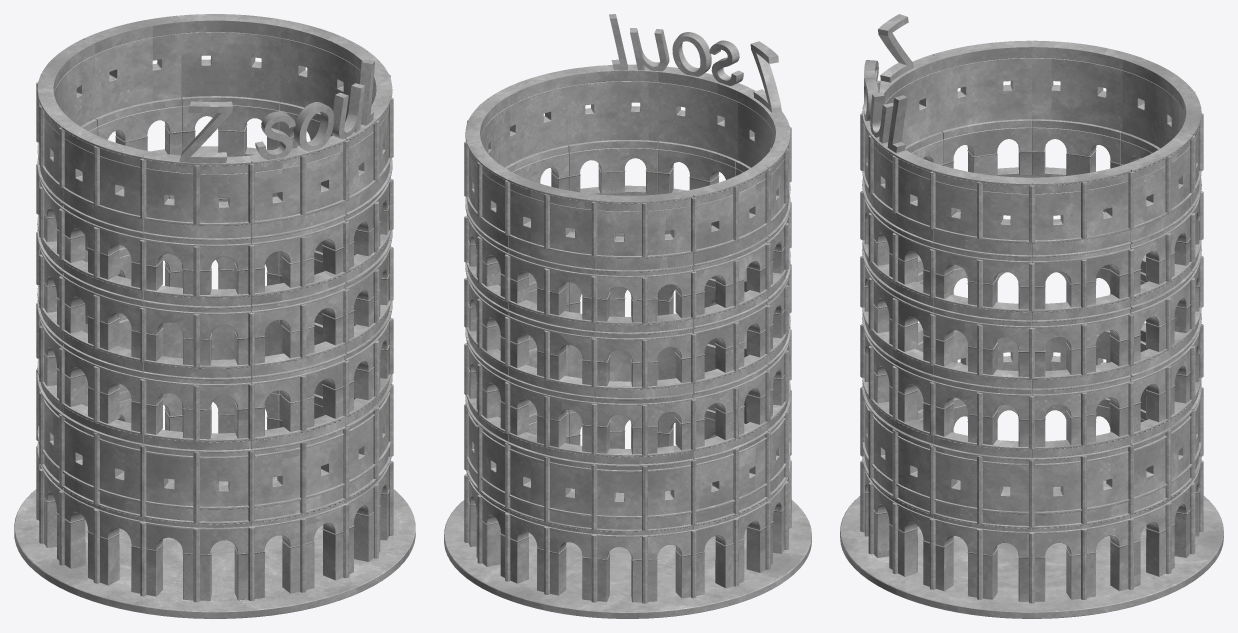
Rendered from soul.glb.
3 views of the same model, side by side, from view 1: azimuth 30°, elevation 25°; view 2: azimuth 150°, elevation 25°; view 3: azimuth 270°, elevation 25° (orthographic). The views are drawn at different scales.
Parts seen in each view (by area): view 1: 柱体.1026, 柱体, 柱体.042, 柱体.012, 柱体.010, 柱体.036, 柱体.006, 柱体.004, 柱体.018, 柱体.016, 柱体.048, 柱体.060 (+98 smaller); view 2: 柱体.1026, 柱体, 柱体.060, 柱体.030, 柱体.028, 柱体.006, 柱体.036, 柱体.034, 柱体.054, 柱体.024, 柱体.022, 柱体.042 (+95 smaller); view 3: 柱体.1026, 柱体, 柱体.018, 柱体.024, 柱体.048, 柱体.054, 柱体.052, 柱体.046, 柱体.042, 柱体.060, 柱体.030, 柱体.040 (+92 smaller).
Part boxes in pixels (bbox=[...]): 柱体.1026: bbox=[36, 74, 393, 602]; 柱体: bbox=[14, 471, 415, 618]; 柱体.042: bbox=[181, 32, 280, 101]; 柱体.012: bbox=[143, 168, 251, 238]; 柱体.010: bbox=[145, 453, 248, 521]; 柱体.036: bbox=[95, 33, 181, 118]; 柱体.006: bbox=[251, 151, 346, 236]; 柱体.004: bbox=[254, 435, 344, 519]; 柱体.018: bbox=[61, 138, 143, 232]; 柱体.016: bbox=[62, 423, 140, 514]; 柱体.048: bbox=[280, 38, 354, 122]; 柱体.060: bbox=[345, 110, 391, 213]; 柱体.1026: bbox=[464, 120, 791, 603]; 柱体: bbox=[444, 483, 811, 618]; 柱体.060: bbox=[567, 81, 658, 145]; 柱体.030: bbox=[594, 206, 693, 270]; 柱体.028: bbox=[596, 467, 691, 529]; 柱体.006: bbox=[658, 82, 737, 160]; 柱体.036: bbox=[507, 190, 594, 268]; 柱体.034: bbox=[509, 451, 591, 527]; 柱体.054: bbox=[499, 86, 567, 167]; 柱体.024: bbox=[693, 178, 768, 264]; 柱体.022: bbox=[696, 440, 767, 523]; 柱体.042: bbox=[466, 152, 508, 247]; 柱体.1026: bbox=[860, 91, 1203, 603]; 柱体: bbox=[840, 480, 1223, 618]; 柱体.018: bbox=[941, 58, 1031, 131]; 柱体.024: bbox=[1032, 58, 1122, 131]; 柱体.048: bbox=[1032, 181, 1131, 255]; 柱体.054: bbox=[932, 181, 1031, 255]; 柱体.052: bbox=[934, 453, 1029, 525]; 柱体.046: bbox=[1034, 453, 1129, 525]; 柱体.042: bbox=[1130, 146, 1192, 241]; 柱体.060: bbox=[871, 146, 933, 241]; 柱体.030: bbox=[1122, 70, 1178, 148]; 柱体.040: bbox=[1134, 419, 1192, 510].
Bounding box in the file's own units: 1.48 × 2.04 × 1.48.
1 material, 1 textured.
